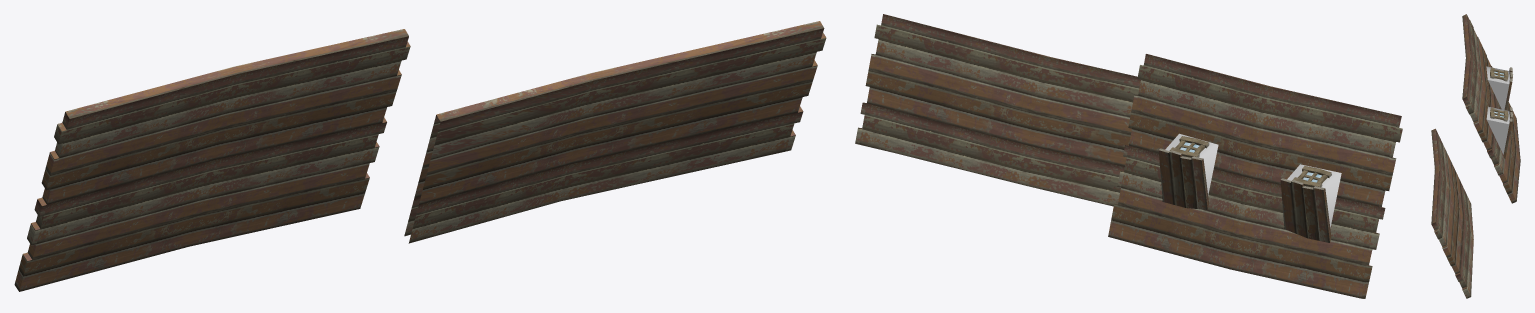
Rendered from Pirate_Bar_Roof_B.fbx.
3 views of the same model, side by side, from view 1: azimuth 30°, elevation 25°; view 2: azimuth 150°, elevation 25°; view 3: azimuth 270°, elevation 25° (orthographic). The views are drawn at different scales.
Parts seen in each view (by area): view 1: Pirate_Bar_Roof_B; view 2: Pirate_Bar_Roof_B; view 3: Pirate_Bar_Roof_B.
Boxes of the visible parts, <box> form: Pirate_Bar_Roof_B: <box>14,21,826,291</box>; Pirate_Bar_Roof_B: <box>855,14,1402,298</box>; Pirate_Bar_Roof_B: <box>1431,14,1520,298</box>.
Size of the model in its own units: 27.3 by 7.67 by 5.76.
